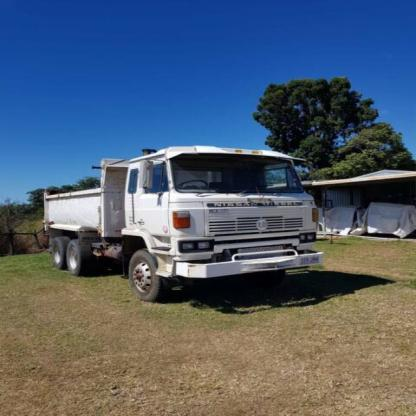dump_truck: (32, 139, 333, 315)
